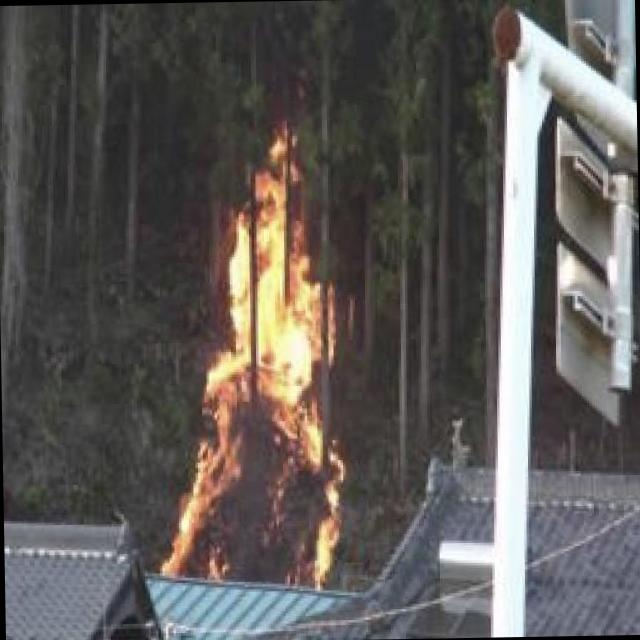Fire: (162, 134, 348, 590), (162, 134, 348, 590)
